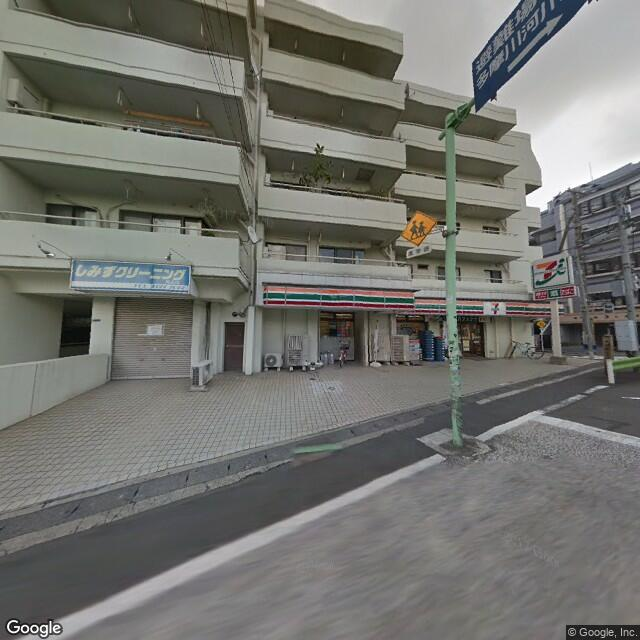7-eleven: (261, 281, 575, 319), (528, 252, 571, 291)
